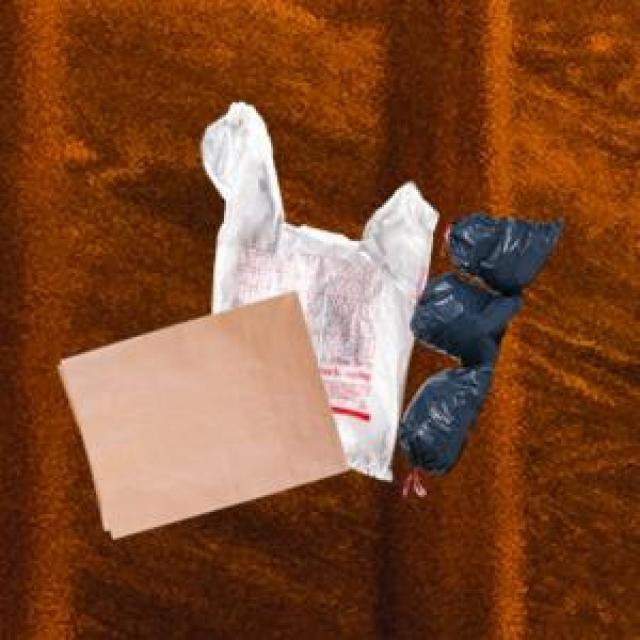miscellaneous trash: (395, 209, 558, 472)
paper: (53, 286, 344, 533)
